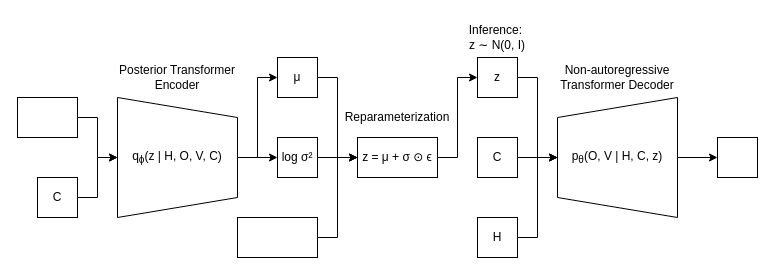
The diagram is 775 pixels wide and 275 high, and some of its shapes have lost their labels. The centre of each missing label's shape, as x and y in pixels:
"H, O, V" belongs at (x=47, y=117).
"Ô, V̂" belongs at (x=737, y=157).
"ϵ ∼ N(0, I)" belongs at (x=277, y=237).
